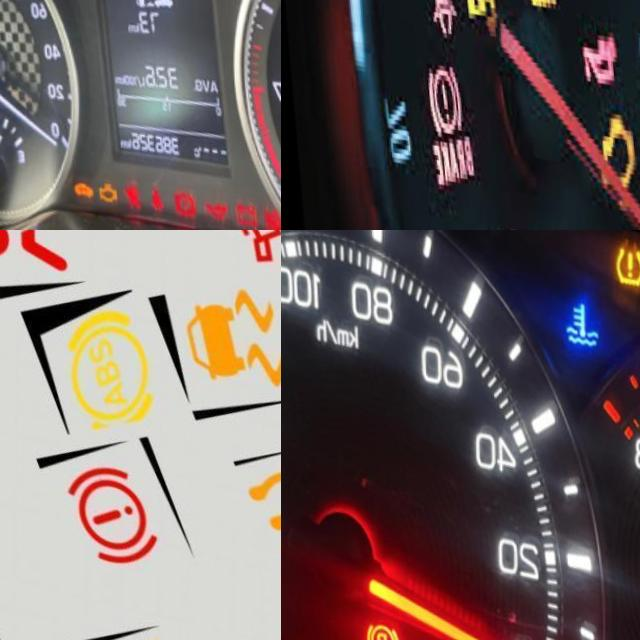Electronic Power Steering: (262, 188, 281, 220)
High Engine Coolant Temperature: (557, 265, 610, 349)
Seat Belt: (430, 0, 460, 27)
